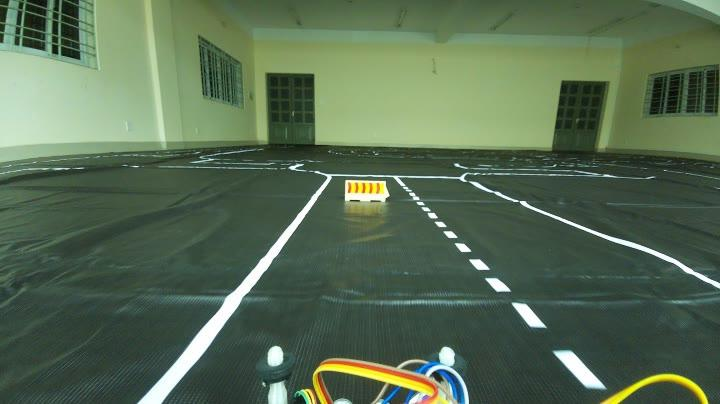roadblock: (342, 178, 393, 208)
